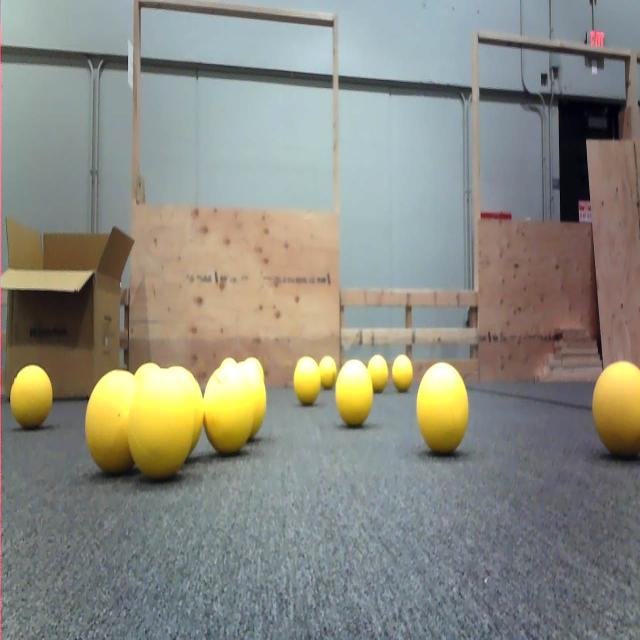fuel: (83, 368, 144, 474), (131, 368, 190, 472), (414, 358, 472, 452), (203, 364, 255, 461), (590, 358, 640, 456), (332, 353, 381, 433), (6, 364, 59, 432), (234, 357, 270, 444), (291, 350, 321, 418), (317, 341, 336, 396), (392, 351, 414, 394), (369, 353, 389, 395)
